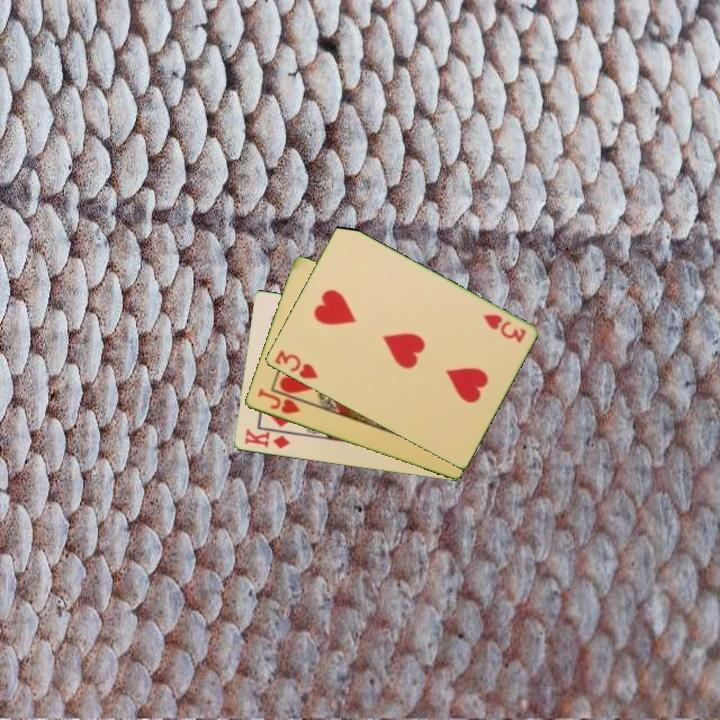3h: (271, 346, 321, 382), (479, 311, 529, 346)
Jh: (254, 385, 303, 417)
Kd: (241, 425, 292, 452)
